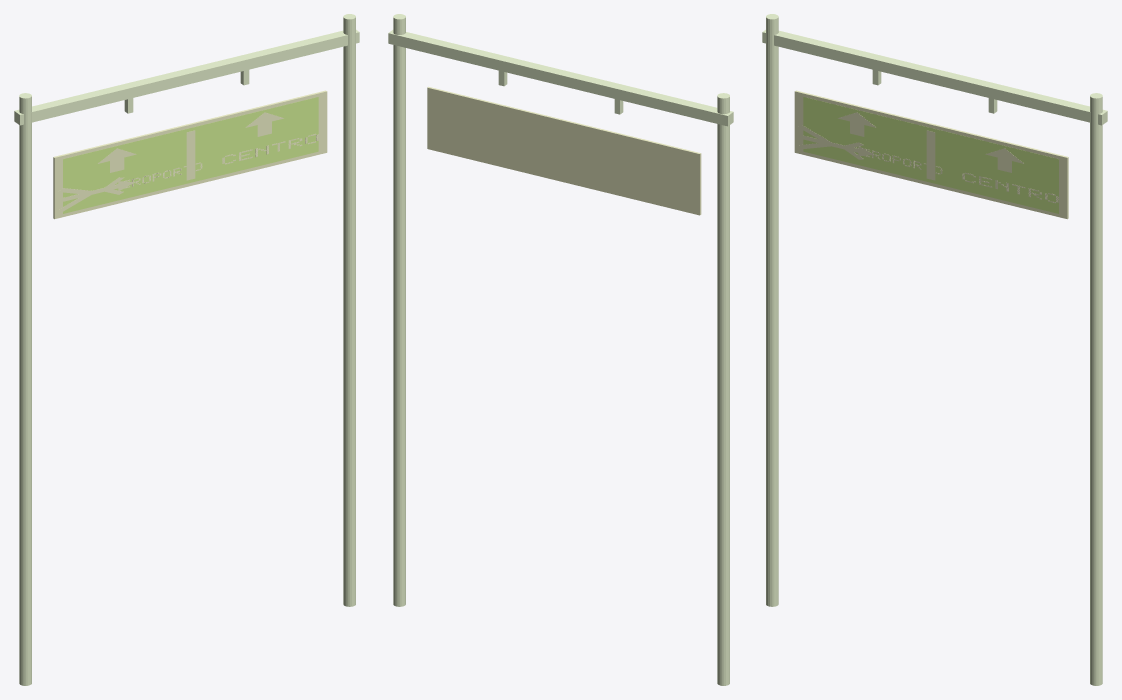
File: sign_overhead_aeroporto_centro_split.glb
3 renders of one model, left to right at view 1: azimuth 30°, elevation 25°; view 2: azimuth 150°, elevation 25°; view 3: azimuth 330°, elevation 25°, orthographic.
Visible parts, largest first — view 1: layer_1_00, pole_left, pole_right, crossbar, plate_base_00; view 2: plate_base_00, pole_left, pole_right, crossbar; view 3: layer_1_00, pole_right, pole_left, crossbar, plate_base_00.
Boxes of the visible parts, bbox=[...] form: layer_1_00: bbox=[63, 97, 318, 213]; pole_left: bbox=[19, 93, 31, 685]; pole_right: bbox=[343, 14, 355, 606]; crossbar: bbox=[14, 29, 359, 125]; plate_base_00: bbox=[53, 90, 327, 219]; plate_base_00: bbox=[427, 86, 701, 215]; pole_left: bbox=[717, 93, 729, 685]; pole_right: bbox=[393, 14, 405, 606]; crossbar: bbox=[388, 30, 733, 126]; layer_1_00: bbox=[803, 97, 1058, 213]; pole_right: bbox=[1090, 93, 1102, 685]; pole_left: bbox=[766, 14, 778, 606]; crossbar: bbox=[762, 29, 1107, 125]; plate_base_00: bbox=[794, 90, 1068, 219].
Size of the model in its own units: 3.05 by 5.04 by 0.108.
